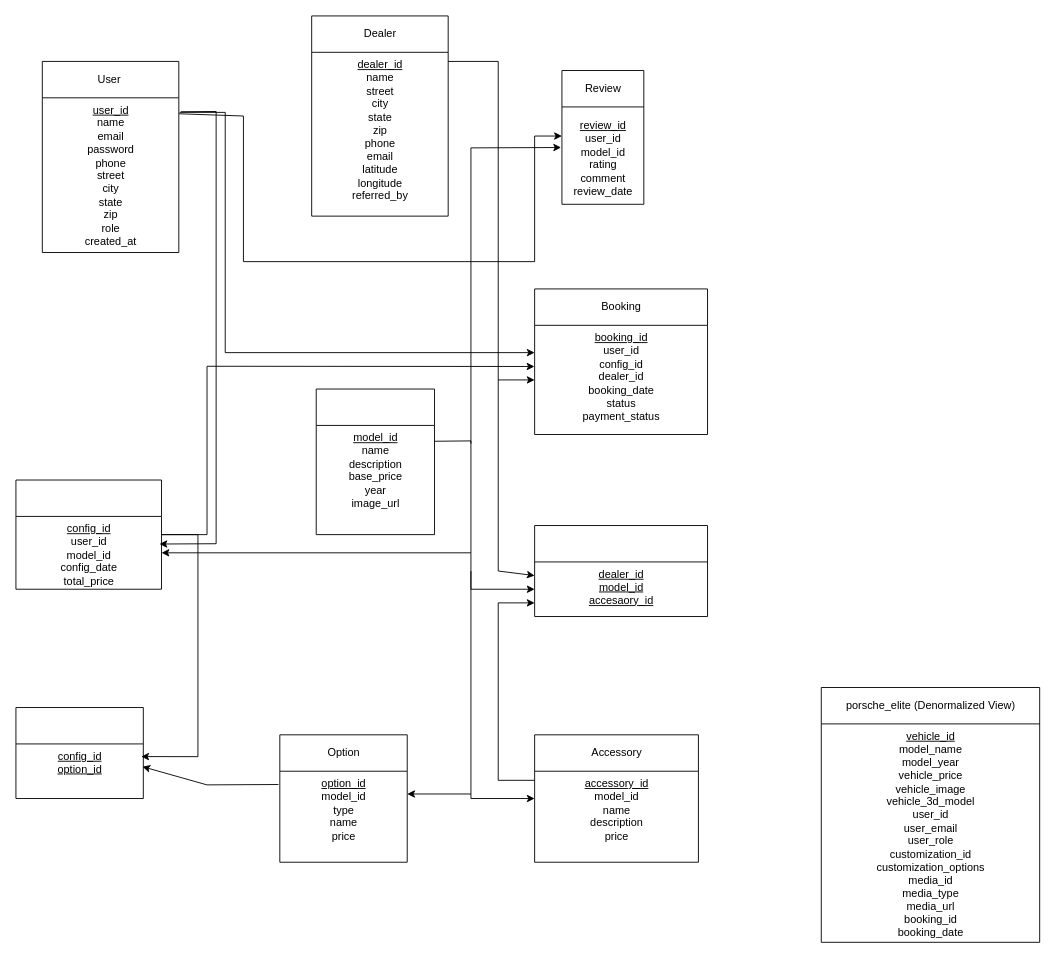
This 1056x958 diagram has some shape labels left out. Each missing label, with the box of its shape:
CarModel: (315, 388, 435, 535)
Configuration: (15, 479, 162, 589)
ConfigurationOption: (15, 707, 143, 799)
DealerCarModelAccessory: (534, 525, 708, 617)
